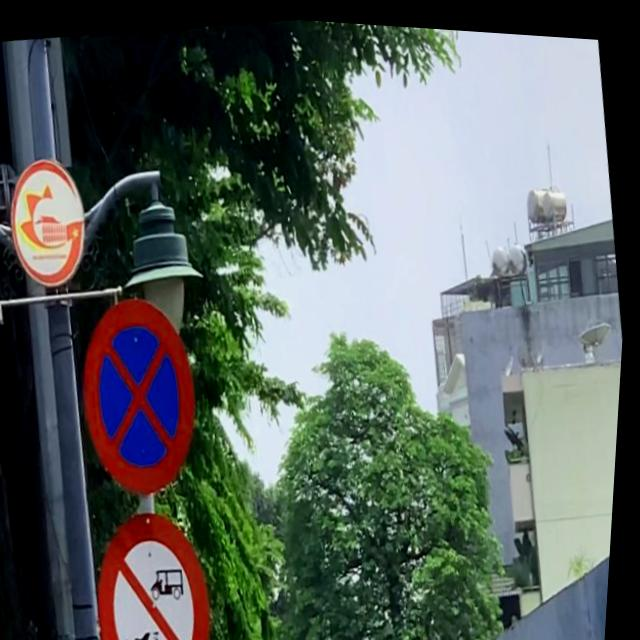Cam dung xe va do xe: (65, 280, 222, 508)
